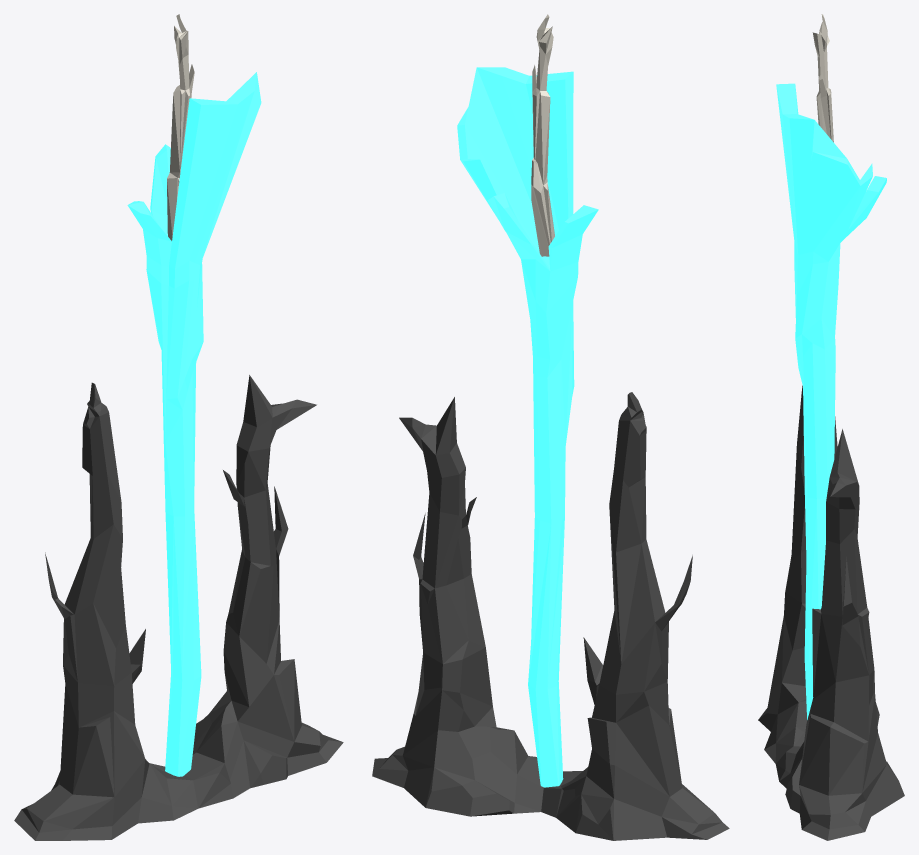
Rendered from SM_Relief_Element_05.glb.
3 renders of one model, left to right at view 1: azimuth 30°, elevation 25°; view 2: azimuth 150°, elevation 25°; view 3: azimuth 270°, elevation 25°, orthographic. The views are drawn at different scales.
Visible parts, largest first — view 1: SM_Relief_Element_05; view 2: SM_Relief_Element_05; view 3: SM_Relief_Element_05.
Boxes of the visible parts, x1=… form: SM_Relief_Element_05: x1=14, y1=14, x2=343, y2=840; SM_Relief_Element_05: x1=372, y1=14, x2=729, y2=840; SM_Relief_Element_05: x1=758, y1=14, x2=904, y2=840.
Size of the model in its own units: 0.8216 by 1.85 by 0.3276.
Materials: 2 (1 with a texture image).
